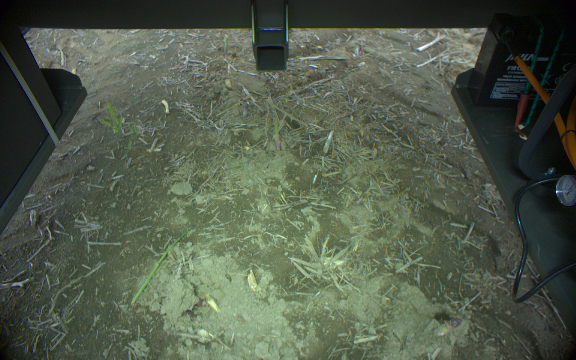aspa: (131, 225, 193, 307), (266, 104, 283, 152)
